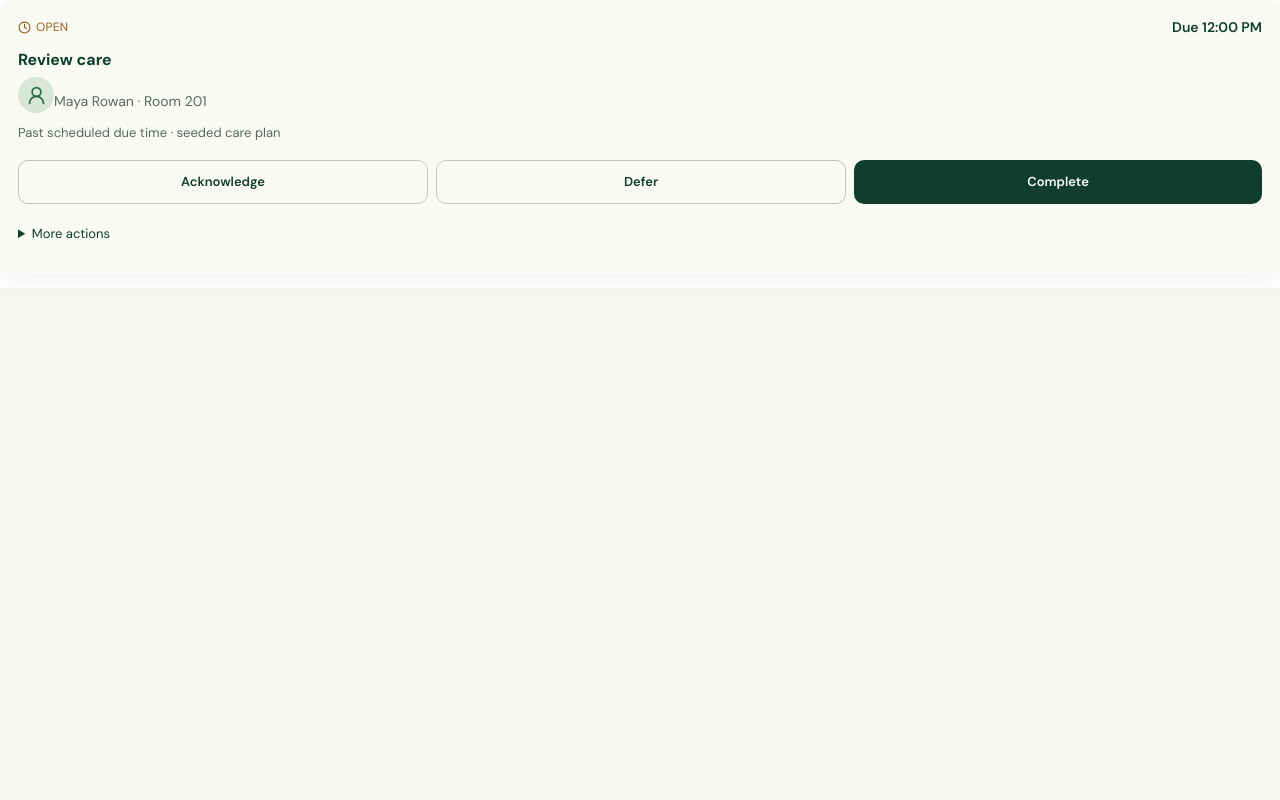
Test: Bedside workflows › requires a deferral reason and sends it to backend
Later steps or results of the test are not shown.
Click the button "Defer": [641, 182] box [436, 160, 846, 204]
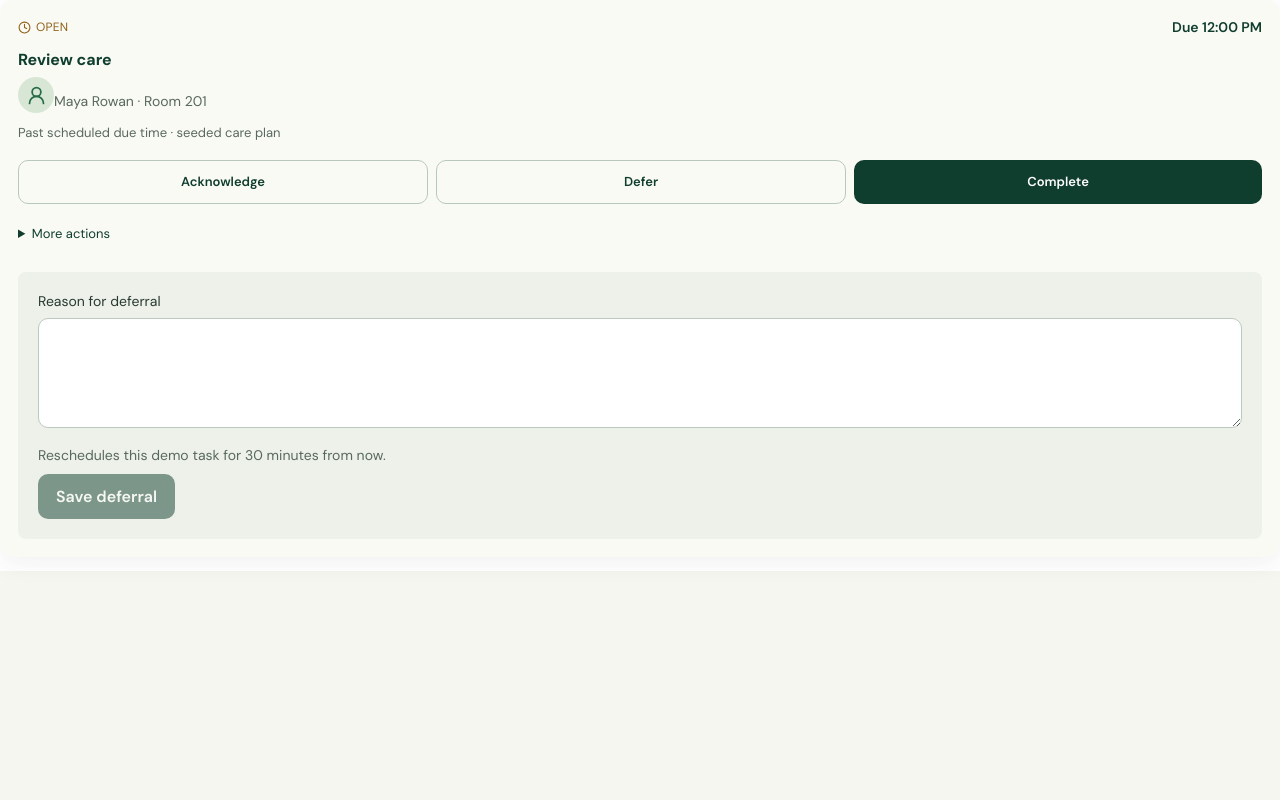
Expected: the button "Save deferral" is disabled, [38, 474, 175, 519]
